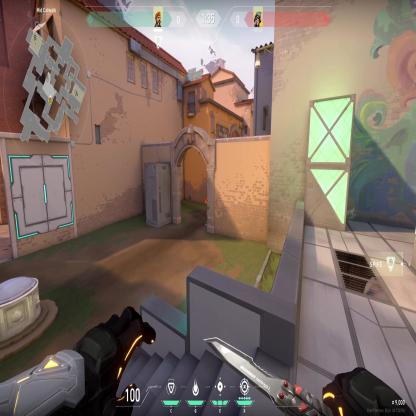enemy: (205, 196, 207, 226)
